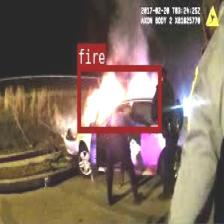fire: (77, 64, 161, 131)
